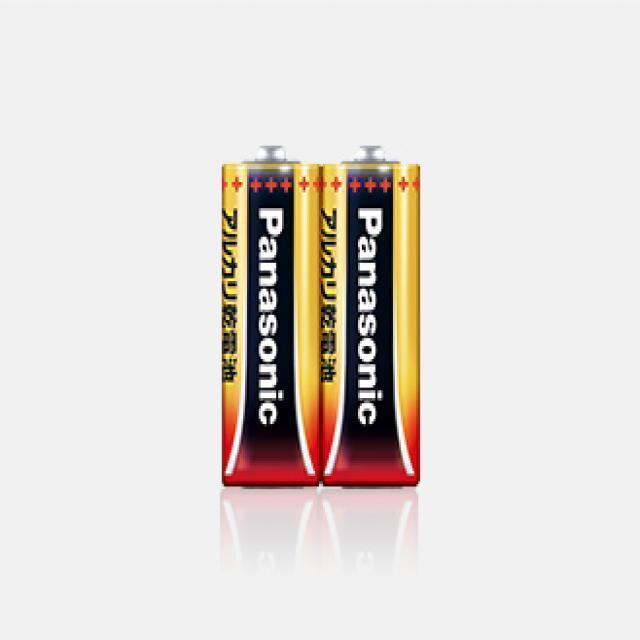Hazard: (316, 144, 424, 490), (218, 142, 324, 488)
